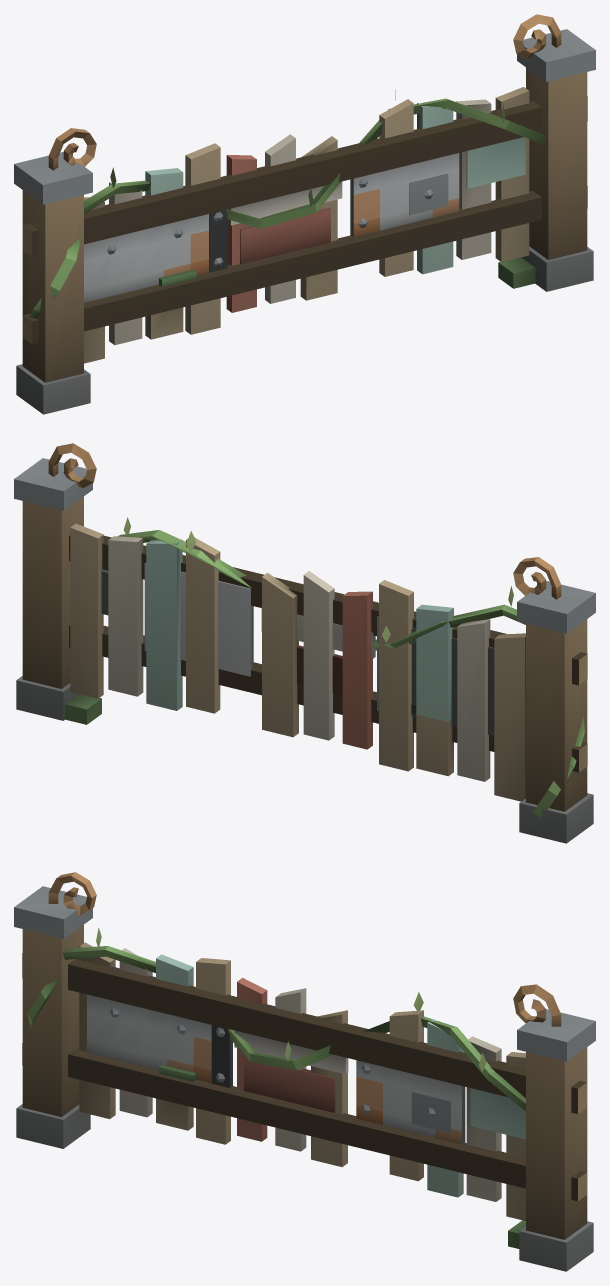
File: fence.glb
The picture shows the model from 3 angles, top to bottom: view 1: azimuth 30°, elevation 25°; view 2: azimuth 150°, elevation 25°; view 3: azimuth 330°, elevation 25°; orthographic projection.
Parts seen in each view (by area): view 1: fence; view 2: fence; view 3: fence.
Part boxes in pixels (bbox=[...]): fence: bbox=[14, 14, 595, 414]; fence: bbox=[14, 443, 595, 843]; fence: bbox=[14, 872, 595, 1271].
Size of the model in its own units: 4 by 1.83 by 0.37.
